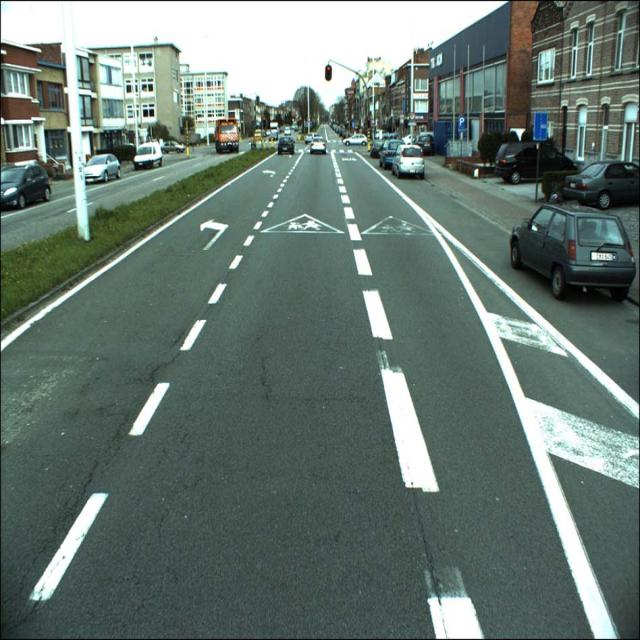kirmizi: (326, 66, 332, 79)
park: (458, 117, 466, 127)
